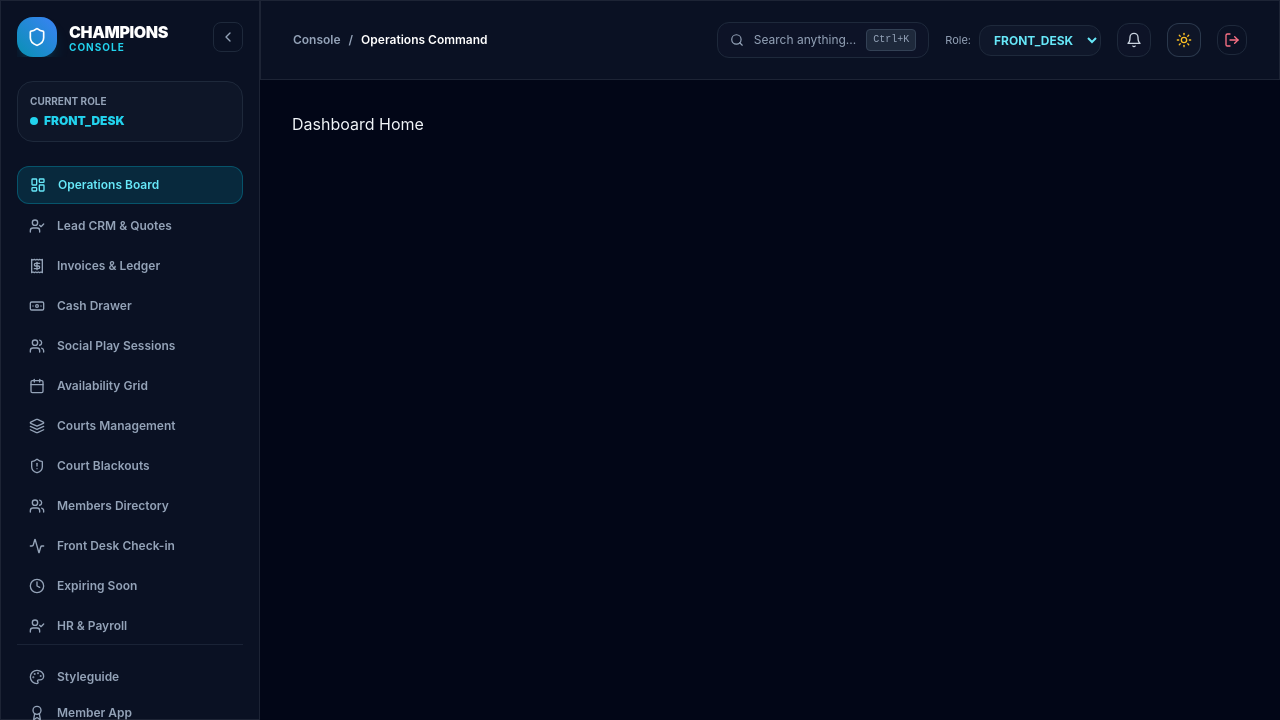
Test: Shells & Navigation Suite › Staff Console Shell (Role-aware filtering) › toggles sidebar collapse state
This screenshot has width=1280, height=720.
Click the button named "Collapse sidebar": (228, 37) [213,22,243,52]
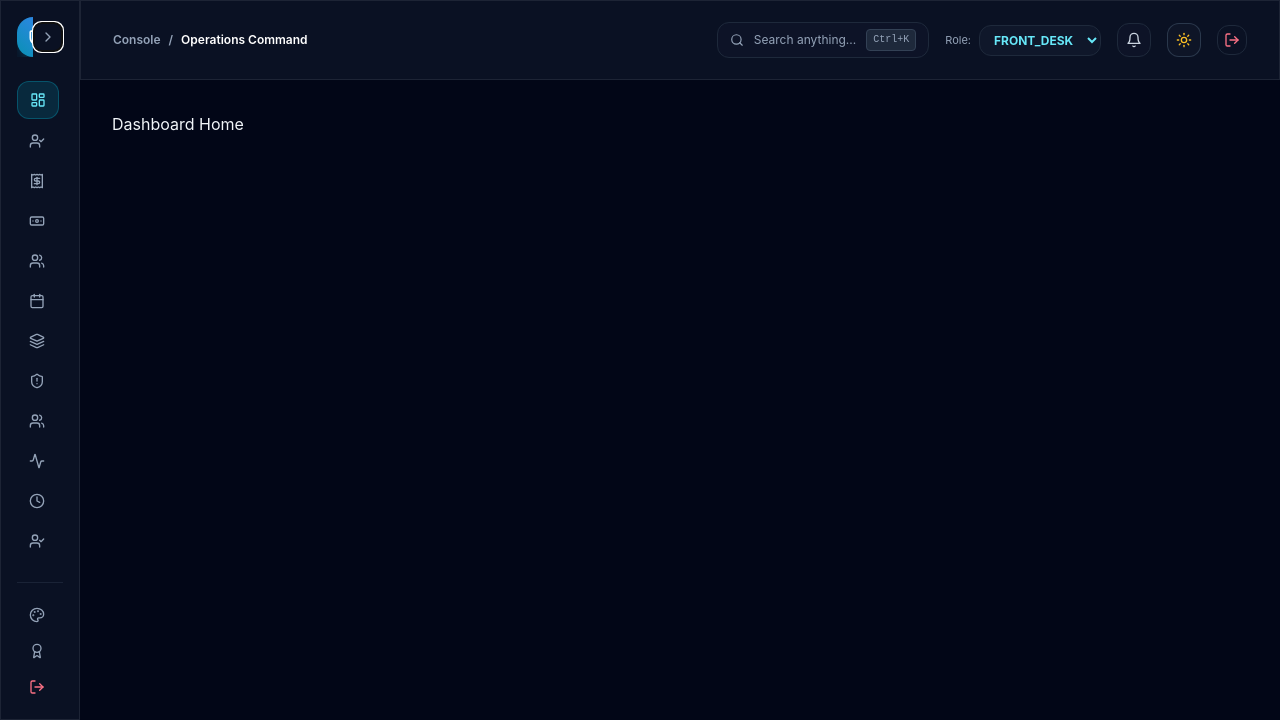
Expected: the button named "Expand sidebar" is shown, [33,22,63,52]
